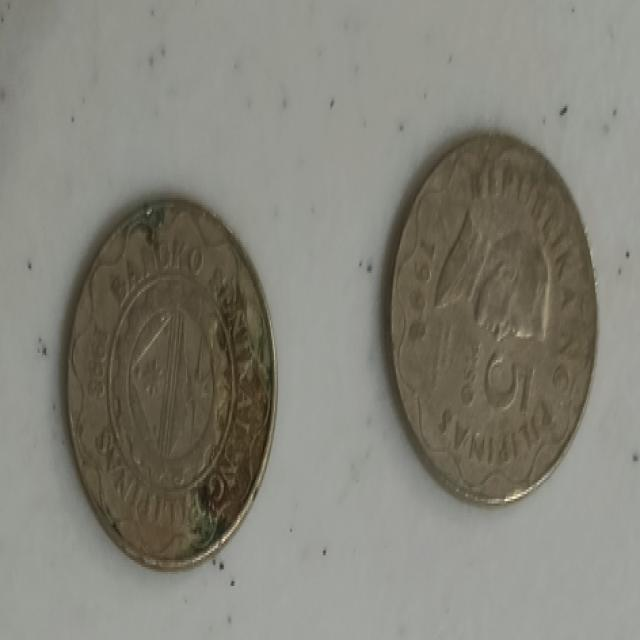5_peso: (389, 134, 597, 501), (68, 200, 274, 567)
